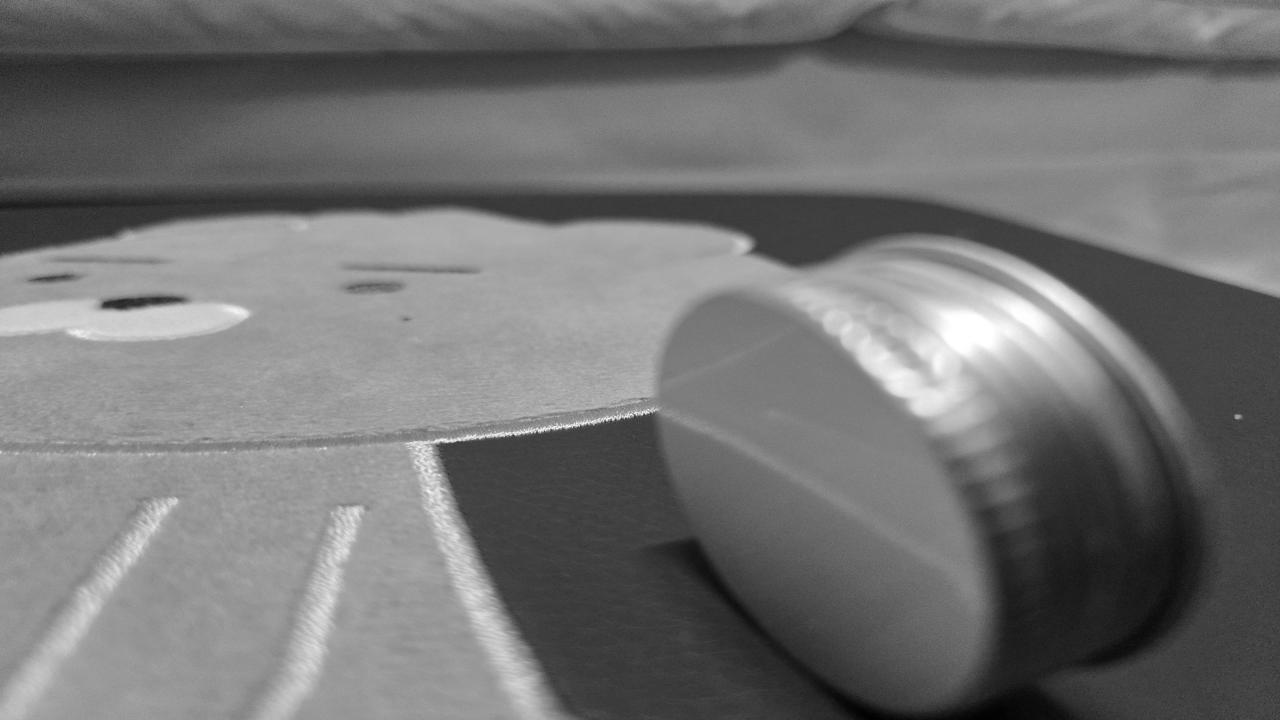bottle_cap: (656, 235, 1218, 720)
